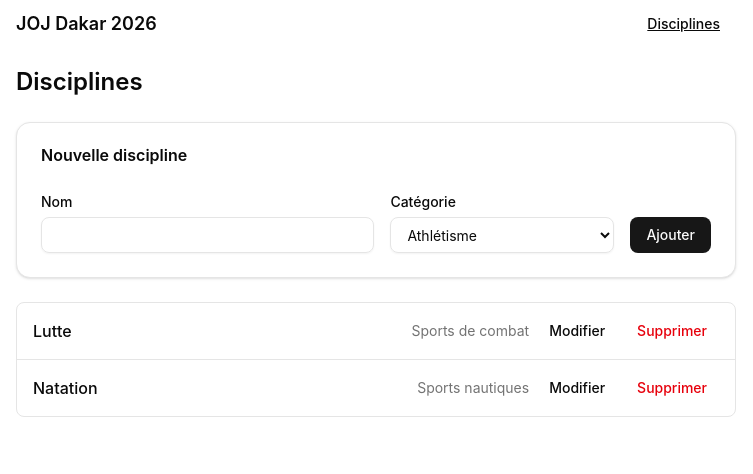
DisciplinesPage › AS9: shows the API error when the new name is taken by another discipline
Click the button with aria-label "Modifier Lutte". click: (577, 331)
box: [537,315,617,347]
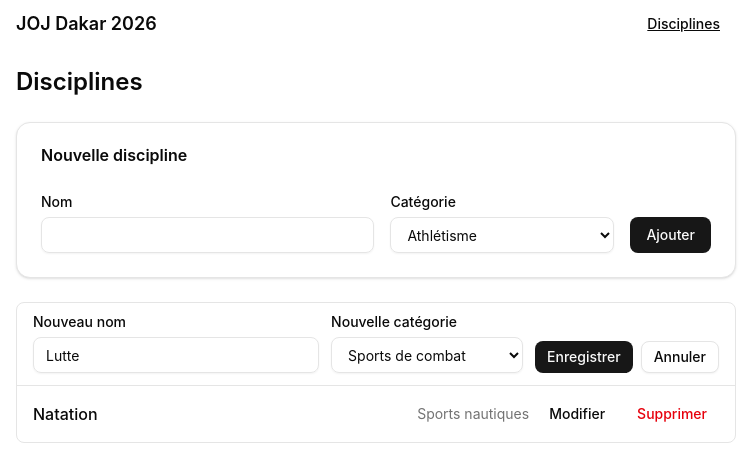
Replace the text in the field labelled "Nouveau nom" with "Natation". click: (176, 355)
box: [33,337,319,373]
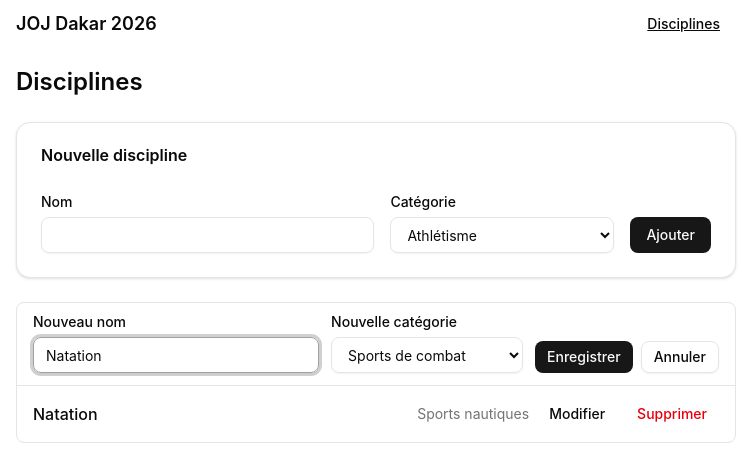
Click the button "Enregistrer". click: (584, 357)
box: [535,341,633,373]
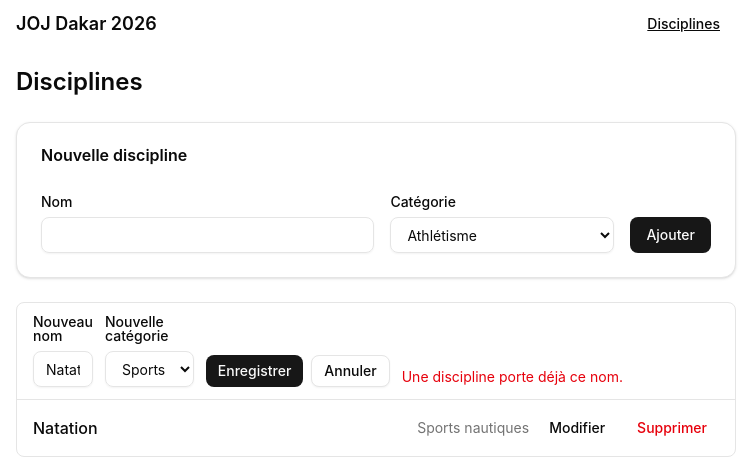
Check: the message reads "Une discipline porte déjà ce nom.", box [402,368,623,385]
